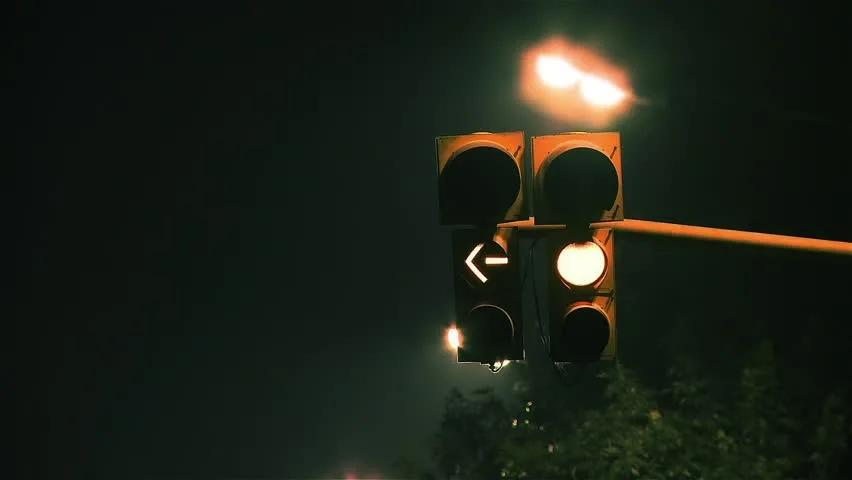traffic light: (531, 133, 624, 362), (437, 132, 524, 364)
